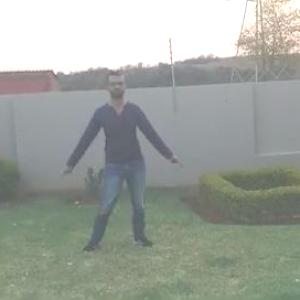land: (48, 60, 176, 276)
